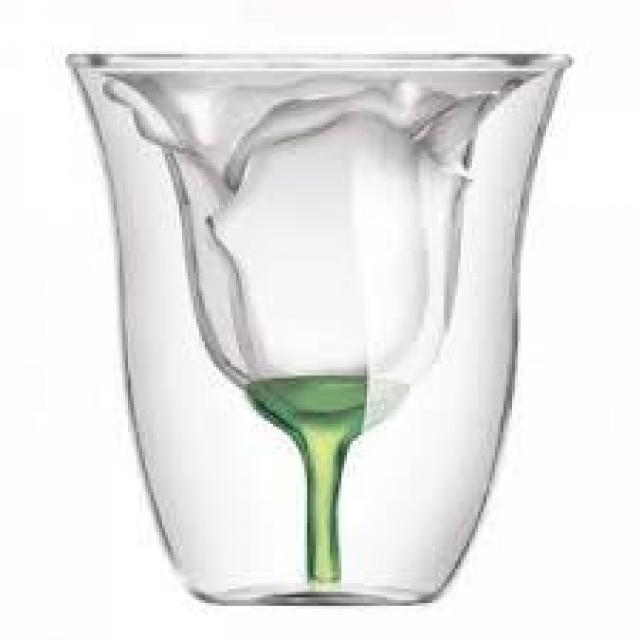non-organic waste: (64, 51, 576, 609)
